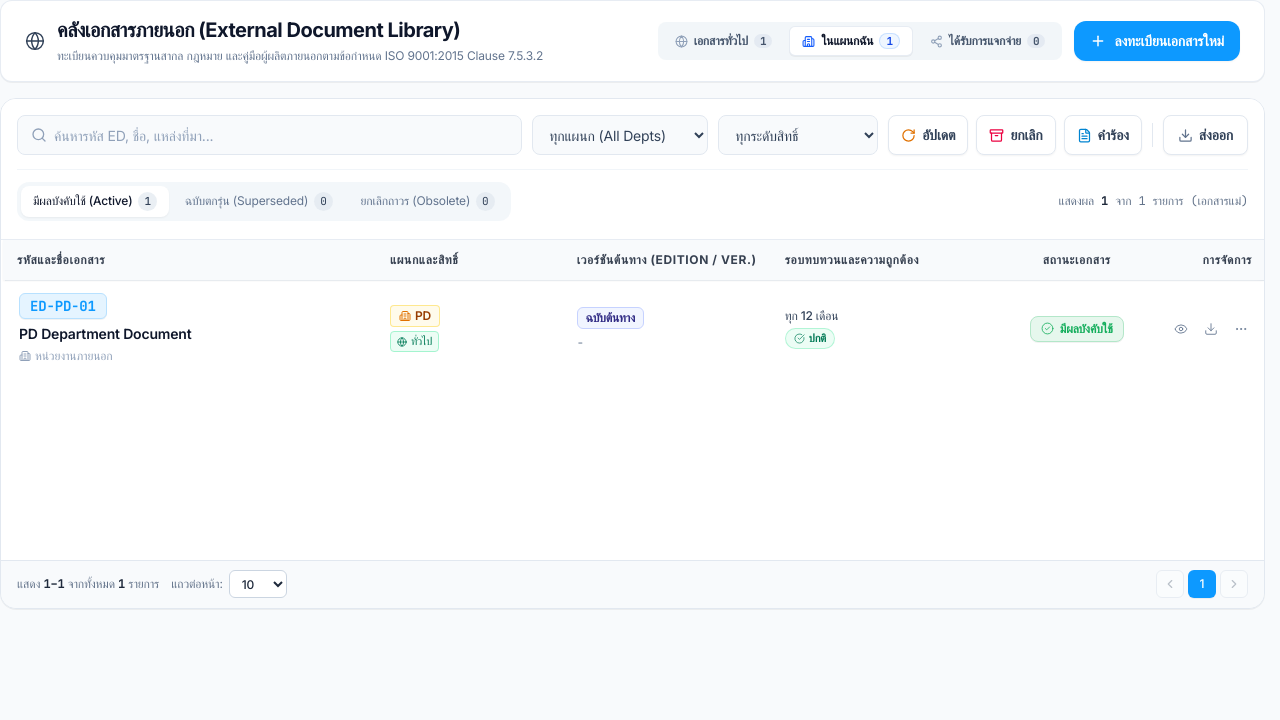
External Documents Management Module (ED-Control) Tests › 3. Periodic Validity Review & Access Scope Control › filters documents correctly based on user role and accessScope
This screenshot has width=1280, height=720.
Expected: the text "ED-PD-01" is shown, [19,293,107,319]
# Another dept's General doc lives in the General tab, not My Dept
Click the button "เอกสารทั่วไป 1". click: (724, 41)
box: [662,26,785,56]
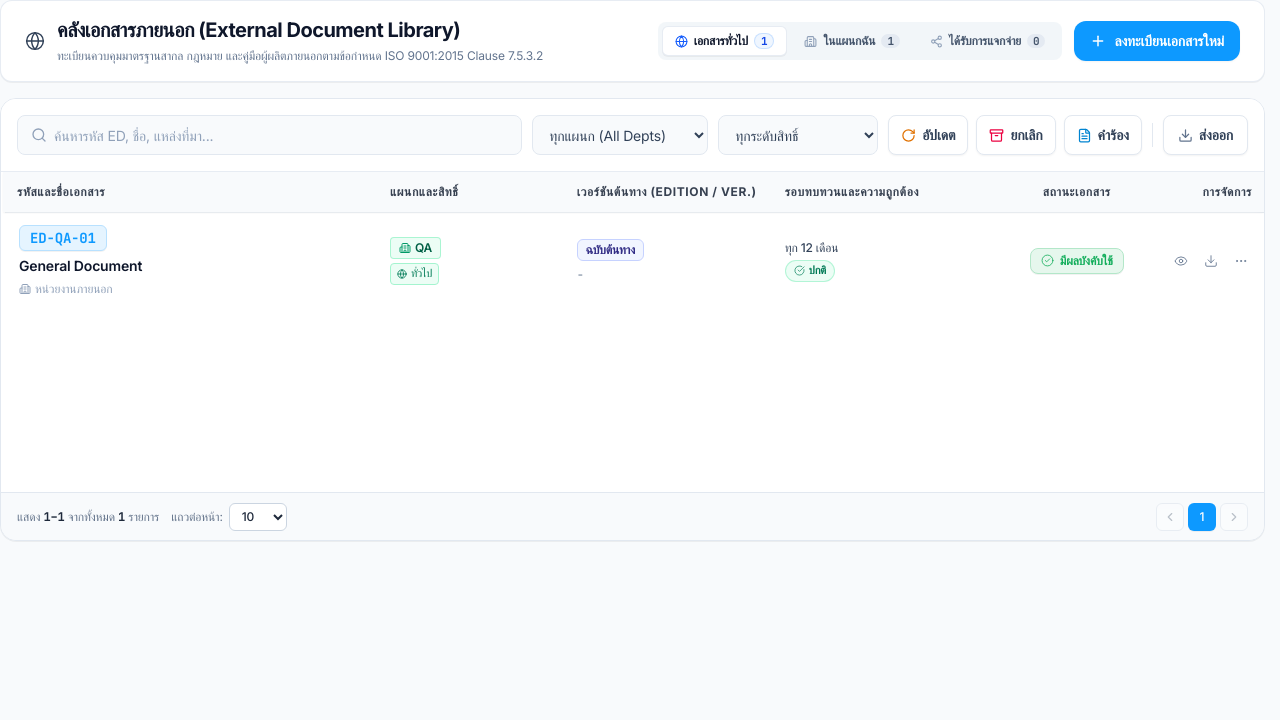
Now the text "ED-QA-01" is shown, box [19,225,107,251]
